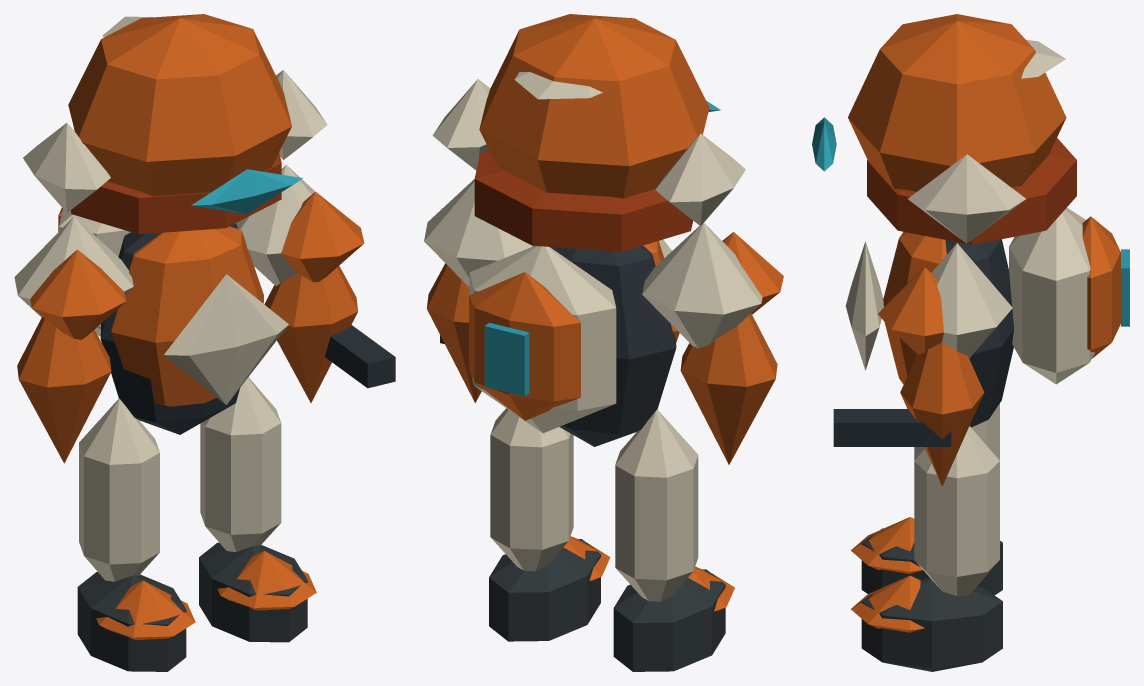
The model's file is rubezh_soldier_v02-JrCcSvOk.glb.
3 renders of one model, left to right at view 1: azimuth 30°, elevation 25°; view 2: azimuth 150°, elevation 25°; view 3: azimuth 270°, elevation 25°, orthographic. The views are drawn at different scales.
Visible parts, largest first — view 1: world; view 2: world; view 3: world.
Boxes of the visible parts, x1=… form: world: x1=14, y1=14, x2=395, y2=671; world: x1=424, y1=14, x2=783, y2=671; world: x1=812, y1=14, x2=1129, y2=671.
Size of the model in its own units: 0.7884 by 1.4 by 0.649.
